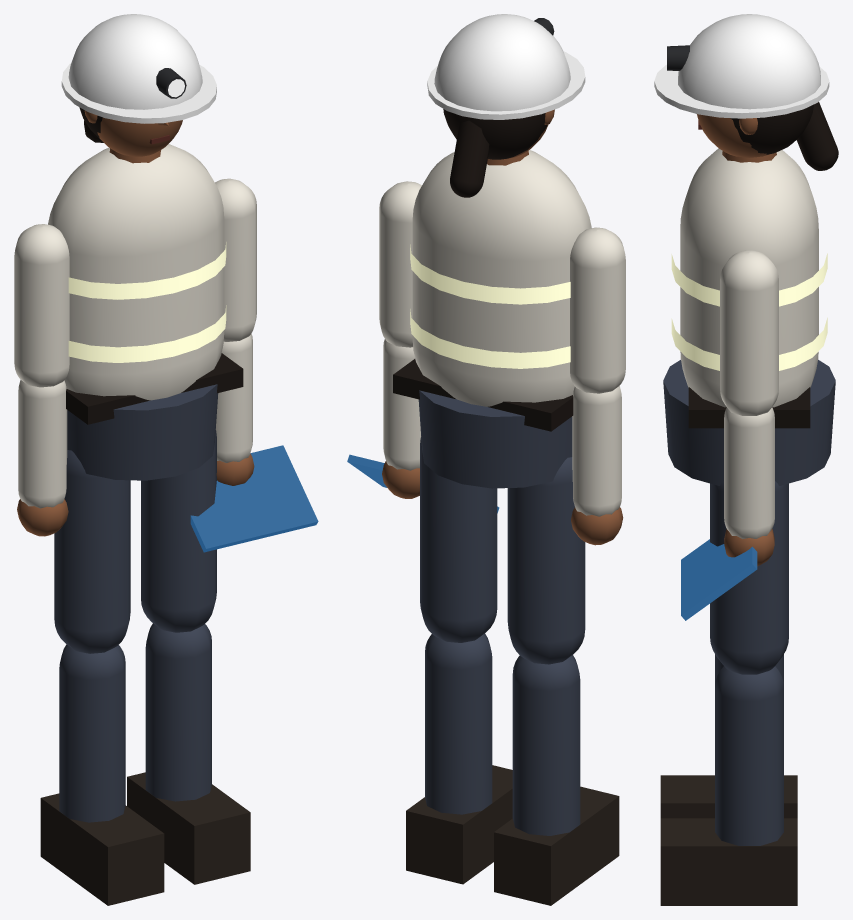
The model's file is worker_helena.glb.
3 renders of one model, left to right at view 1: azimuth 30°, elevation 25°; view 2: azimuth 150°, elevation 25°; view 3: azimuth 270°, elevation 25°, orthographic.
Parts seen in each view (by area): view 1: worker_torso, worker_legs_0_knee, worker_legs_1_knee, worker_head, worker_legs_0_hip, worker_legs_1_hip, worker_arms_0_sh, worker_prop, worker_arms_0_el, worker_arms_1_sh, worker_arms_1_el, worker_arms_0_hand (+1 smaller); view 2: worker_torso, worker_legs_0_knee, worker_legs_1_knee, worker_head, worker_legs_0_hip, worker_legs_1_hip, worker_arms_0_sh, worker_arms_0_el, worker_arms_1_sh, worker_arms_1_el, worker_arms_0_hand, worker_arms_1_hand (+1 smaller); view 3: worker_torso, worker_legs_1_knee, worker_head, worker_legs_1_hip, worker_arms_1_sh, worker_arms_1_el, worker_prop, worker_legs_0_knee, worker_arms_1_hand.
Boxes of the visible parts, bbox=[...] form: worker_torso: bbox=[48, 144, 243, 480]; worker_legs_0_knee: bbox=[40, 644, 164, 905]; worker_legs_1_knee: bbox=[127, 623, 250, 884]; worker_head: bbox=[61, 14, 216, 156]; worker_legs_0_hip: bbox=[54, 450, 130, 653]; worker_legs_1_hip: bbox=[141, 430, 216, 632]; worker_arms_0_sh: bbox=[14, 224, 69, 387]; worker_prop: bbox=[190, 445, 318, 552]; worker_arms_0_el: bbox=[18, 379, 67, 508]; worker_arms_1_sh: bbox=[215, 178, 256, 341]; worker_arms_1_el: bbox=[215, 334, 252, 462]; worker_arms_0_hand: bbox=[17, 499, 68, 536]; worker_torso: bbox=[393, 150, 591, 488]; worker_legs_0_knee: bbox=[494, 655, 619, 905]; worker_legs_1_knee: bbox=[406, 633, 512, 884]; worker_head: bbox=[427, 14, 585, 197]; worker_legs_0_hip: bbox=[507, 457, 585, 664]; worker_legs_1_hip: bbox=[420, 437, 497, 642]; worker_arms_0_sh: bbox=[570, 227, 625, 393]; worker_arms_0_el: bbox=[572, 386, 621, 516]; worker_arms_1_sh: bbox=[379, 181, 421, 347]; worker_arms_1_el: bbox=[383, 339, 420, 470]; worker_arms_0_hand: bbox=[571, 507, 623, 545]; worker_arms_1_hand: bbox=[382, 461, 419, 498]; worker_torso: bbox=[663, 148, 835, 485]; worker_legs_1_knee: bbox=[660, 666, 797, 905]; worker_head: bbox=[654, 14, 838, 170]; worker_legs_1_hip: bbox=[710, 481, 788, 674]; worker_arms_1_sh: bbox=[720, 250, 778, 415]; worker_arms_1_el: bbox=[724, 407, 774, 538]; worker_prop: bbox=[681, 539, 757, 620]; worker_legs_0_knee: bbox=[660, 654, 797, 818]; worker_arms_1_hand: bbox=[724, 529, 774, 566].
Bounding box in the file's own units: 0.6152 × 1.85 × 0.363.
